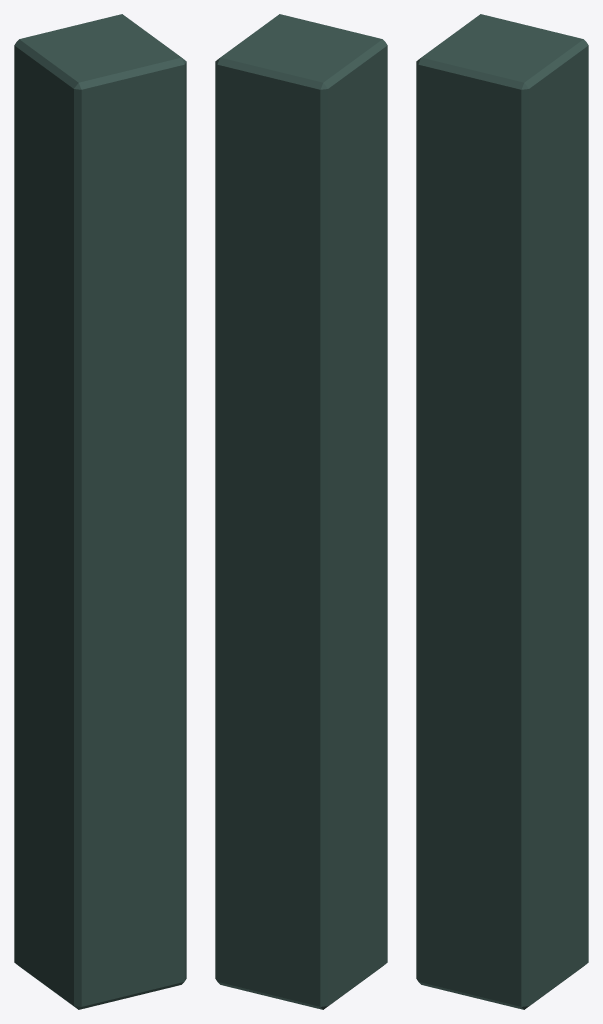
File: RIVER_RAIL_END_POST.fbx
The picture shows the model from 3 angles, left to right: view 1: azimuth 30°, elevation 25°; view 2: azimuth 150°, elevation 25°; view 3: azimuth 330°, elevation 25°; orthographic projection.
Visible parts, largest first — view 1: RIVER_RAIL_END_POST; view 2: RIVER_RAIL_END_POST; view 3: RIVER_RAIL_END_POST.
Part boxes in pixels (x1,y1,x2,y2): RIVER_RAIL_END_POST: (14, 14, 186, 1009); RIVER_RAIL_END_POST: (215, 14, 387, 1009); RIVER_RAIL_END_POST: (416, 14, 588, 1009).
Size of the model in its own units: 0.14 by 1.1 by 0.14.
